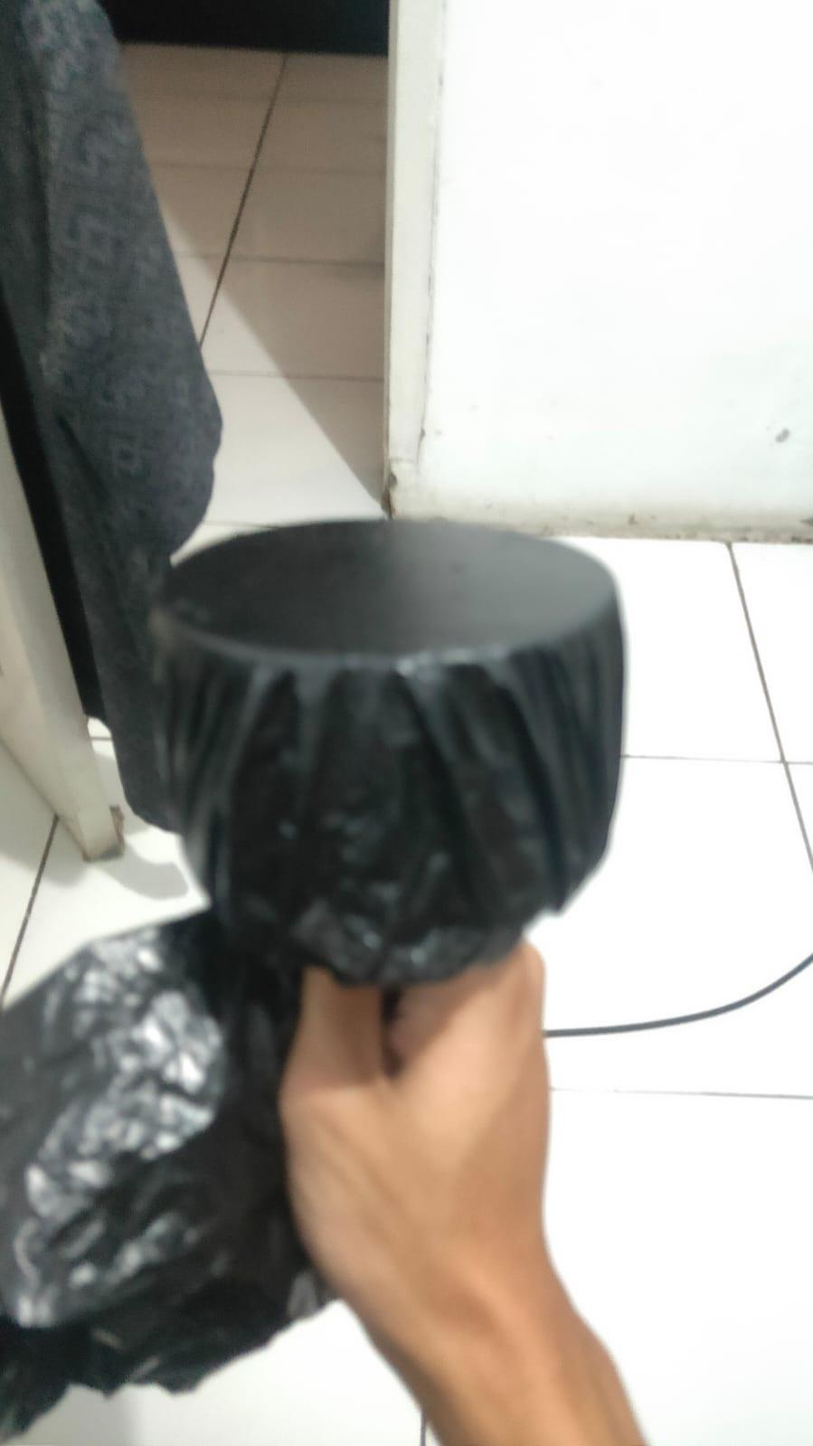undamaged: (136, 501, 644, 1003)
